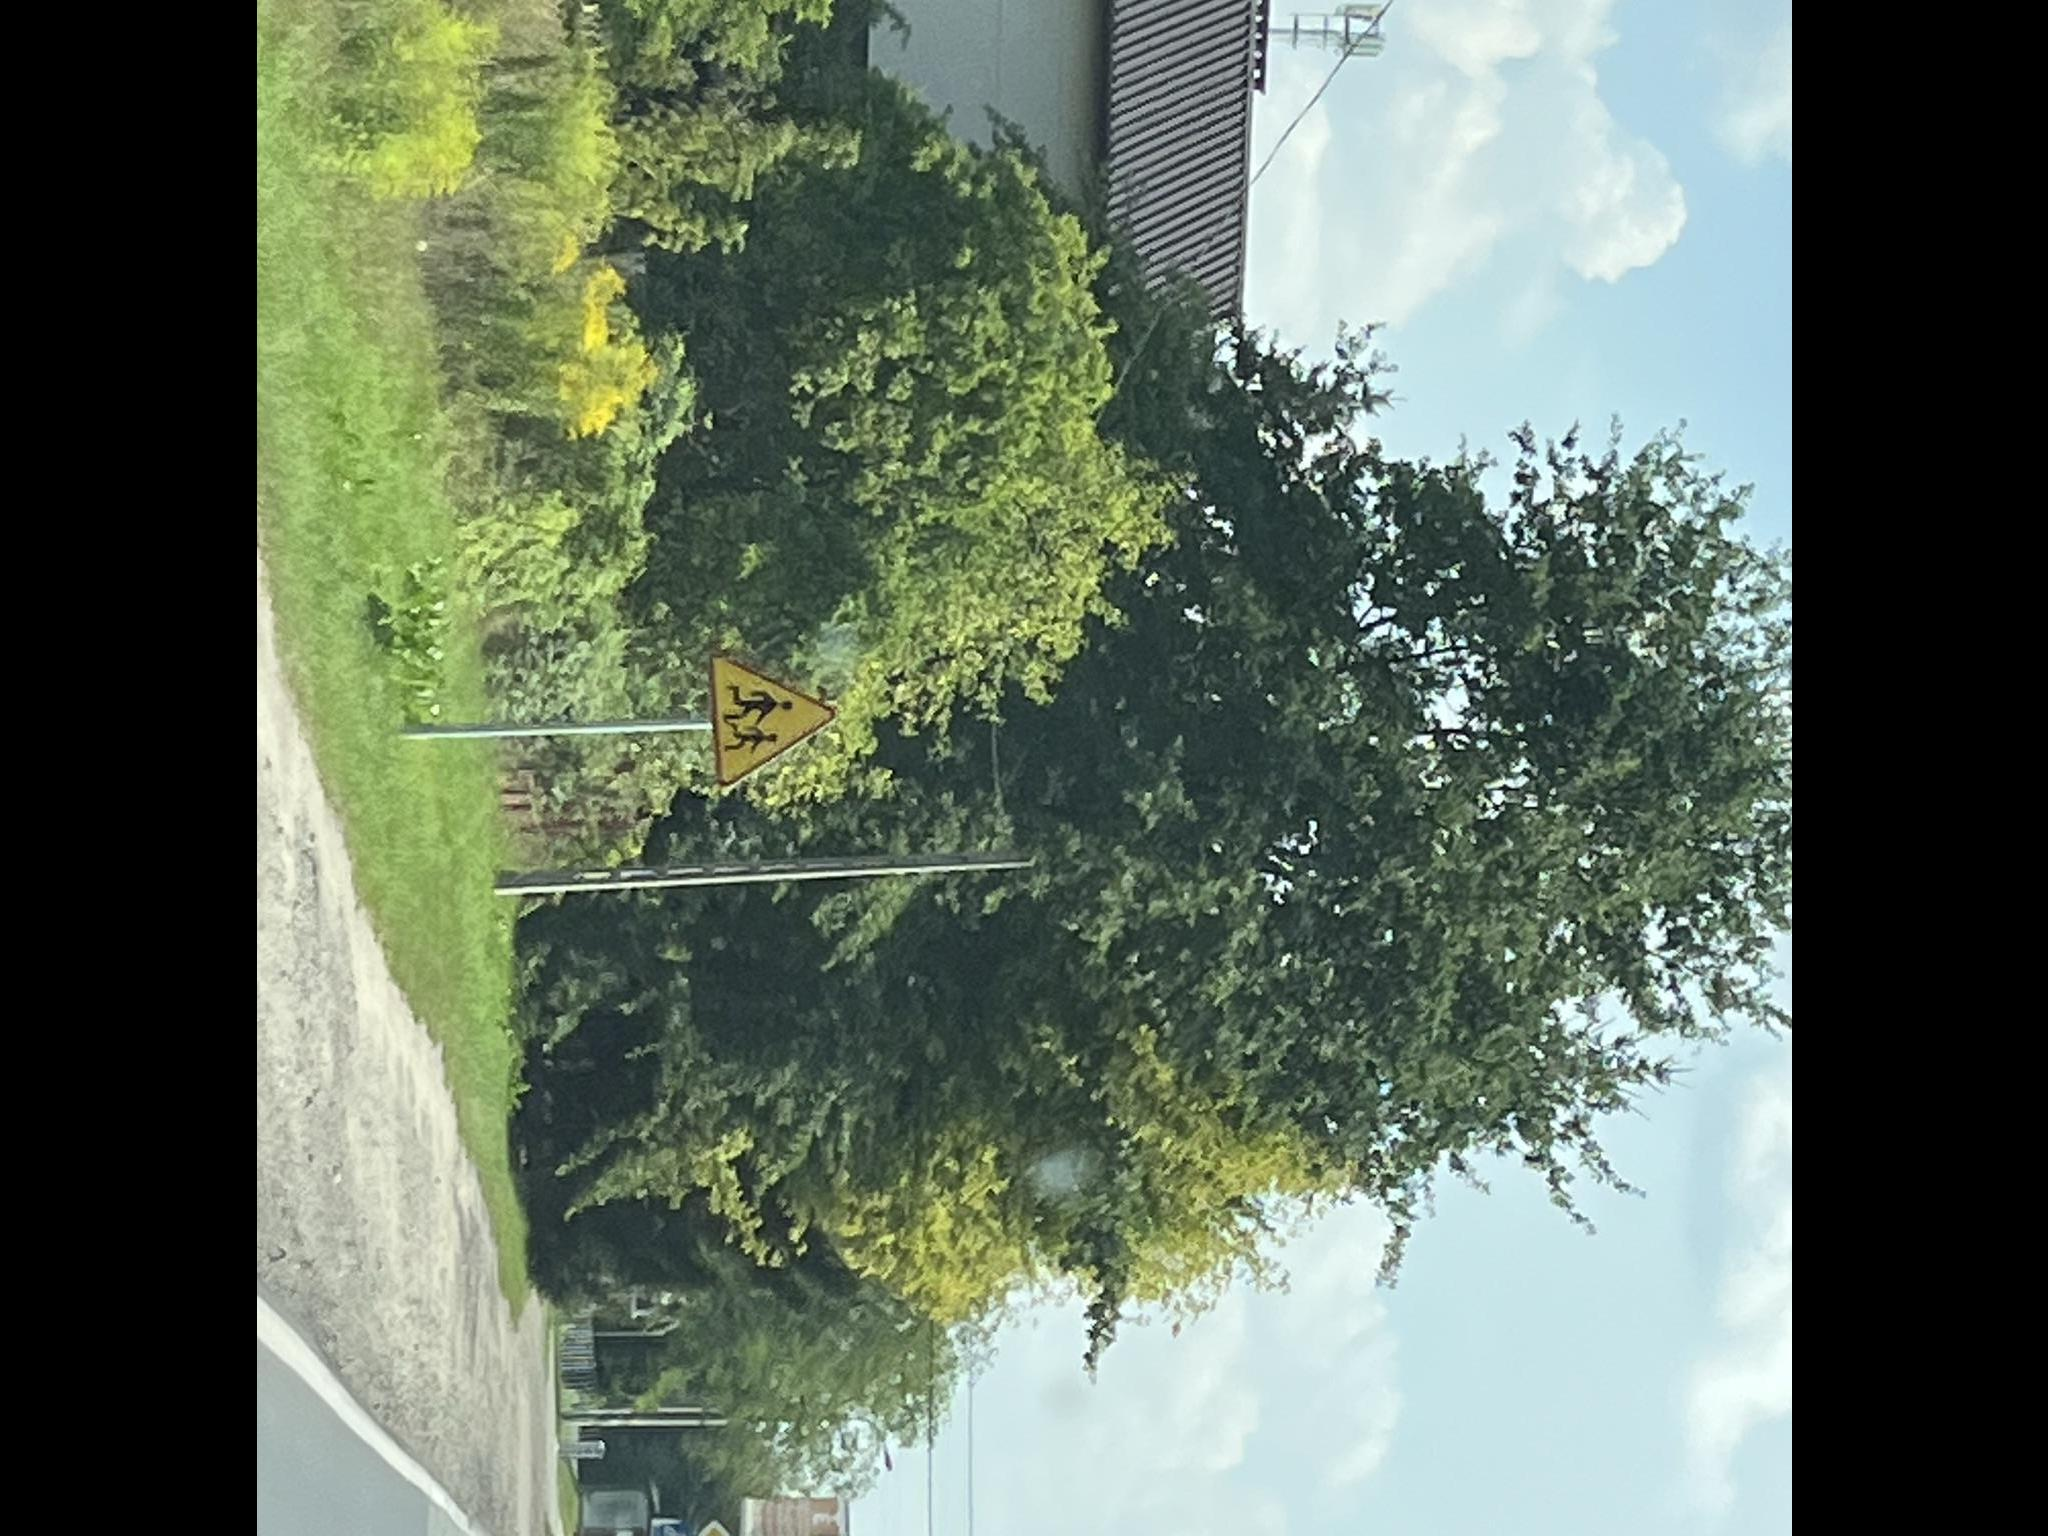information: (692, 1518, 734, 1536), (661, 1526, 690, 1536)
warning: (711, 652, 837, 787)
